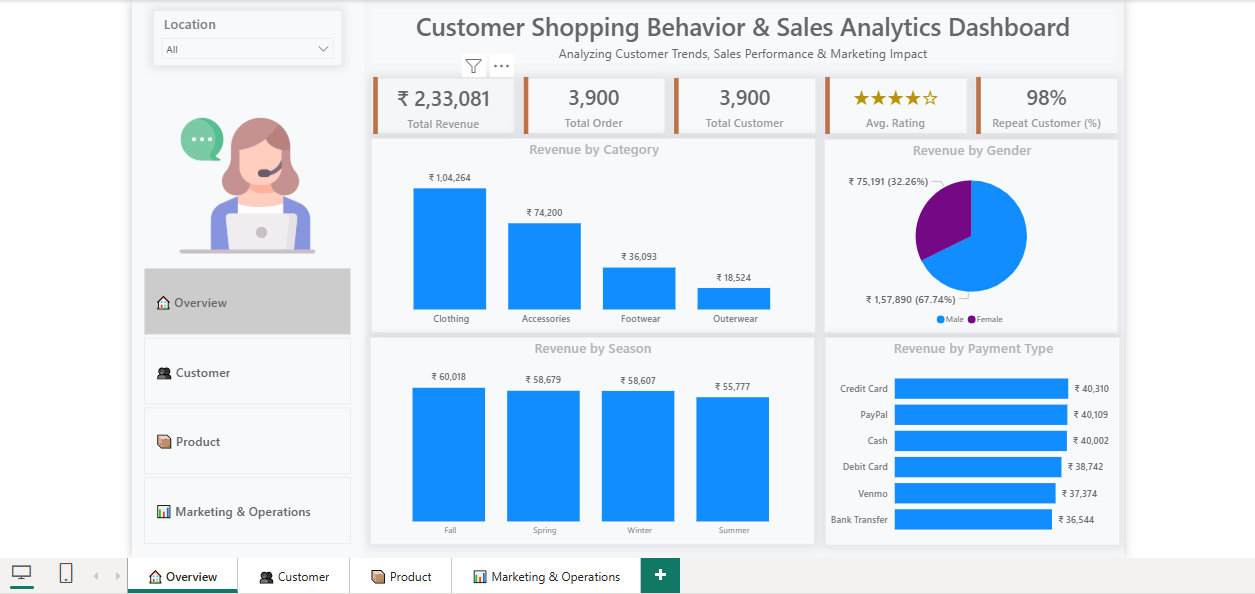

This screenshot's page, from the dashboard's own definition file:
{"tool":"powerbi","page":{"name":"🏠    Overview","canvas":[1280,720],"ordinal":0},"visuals":[{"type":"shape","box":[0,0,300.5,720],"z":0},{"type":"pageNavigator","box":[16,345.6,267.2,357.5],"z":1000},{"type":"image","box":[16,147.5,267.2,184.8],"z":2000},{"type":"textbox","title":"Customer Shopping Behaviour & Sales Analytics Dashboard","box":[308.4,11.6,960,74],"z":3000},{"type":"card","fields":{"Values":["Measure_Table.Total Order"]},"box":[503,100,185,72],"z":4000},{"type":"card","fields":{"Values":["Measure_Table.Total Customer"]},"box":[698,100,185,72],"z":5000},{"type":"card","fields":{"Values":["Measure_Table.Total Revenue"]},"box":[309,100.6,185,72],"z":6000},{"type":"card","fields":{"Values":["Measure_Table.Repeat Customer (%)"]},"box":[1088,100,185,72],"z":7000},{"type":"card","fields":{"Values":["Measure_Table.Avg. Rating"]},"box":[893,100,185,72],"z":8000},{"type":"shape","box":[304.5,99.4,19.4,73.5],"z":9000},{"type":"shape","box":[499.4,99.4,18.1,73.5],"z":10000},{"type":"shape","box":[693,100,19,72.3],"z":11000},{"type":"shape","box":[887.7,99.4,19.4,73.5],"z":12000},{"type":"shape","box":[1082.6,99.4,19.4,73.5],"z":13000},{"type":"columnChart","title":"Revenue by Category","fields":{"Category":["dim_Category.@Category"],"Y":["Measure_Table.Total Revenue"]},"box":[309,178.6,574,252.3],"z":14000},{"type":"pieChart","title":"Revenue by Gender","fields":{"Category":["dim_Customer.@Gender"],"Y":["Measure_Table.Total Revenue"]},"box":[893.2,179.4,380.1,251.2],"z":15000},{"type":"columnChart","title":"Revenue by Season","fields":{"Category":["dim_Season.@Season"],"Y":["Measure_Table.Total Revenue"]},"box":[307.5,435,573.8,268],"z":16000},{"type":"barChart","title":" Revenue by Payment Type","fields":{"Category":["dim_Payment_Type.@Payment_Type"],"Y":["Measure_Table.Total Revenue"]},"box":[893.8,435,381.2,268.8],"z":17000},{"type":"slicer","fields":{"Values":["dim_Location.@Locations"]},"box":[27.1,12.9,243.9,72.3],"z":18000}]}

Visuals, with their boxes on the page's 1280x720 design canvas (x1, y1, x2, y2). These are canvas units, not pixel positions in the 1255x594 screenshot, which may show the page scaled, cropped or inside an application window:
shape: (0,0,300,720)
pageNavigator: (16,346,283,703)
image: (16,148,283,332)
"Customer Shopping Behaviour & Sales Analytics Dashboard" textbox: (308,12,1268,86)
card - Measure_Table.Total Order: (503,100,688,172)
card - Measure_Table.Total Customer: (698,100,883,172)
card - Measure_Table.Total Revenue: (309,101,494,173)
card - Measure_Table.Repeat Customer (%): (1088,100,1273,172)
card - Measure_Table.Avg. Rating: (893,100,1078,172)
shape: (304,99,324,173)
shape: (499,99,518,173)
shape: (693,100,712,172)
shape: (888,99,907,173)
shape: (1083,99,1102,173)
"Revenue by Category" columnChart: (309,179,883,431)
"Revenue by Gender" pieChart: (893,179,1273,431)
"Revenue by Season" columnChart: (308,435,881,703)
" Revenue by Payment Type" barChart: (894,435,1275,704)
slicer - dim_Location.@Locations: (27,13,271,85)
